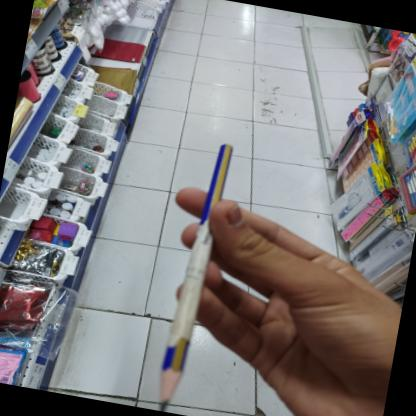pencil: (150, 134, 242, 414)
